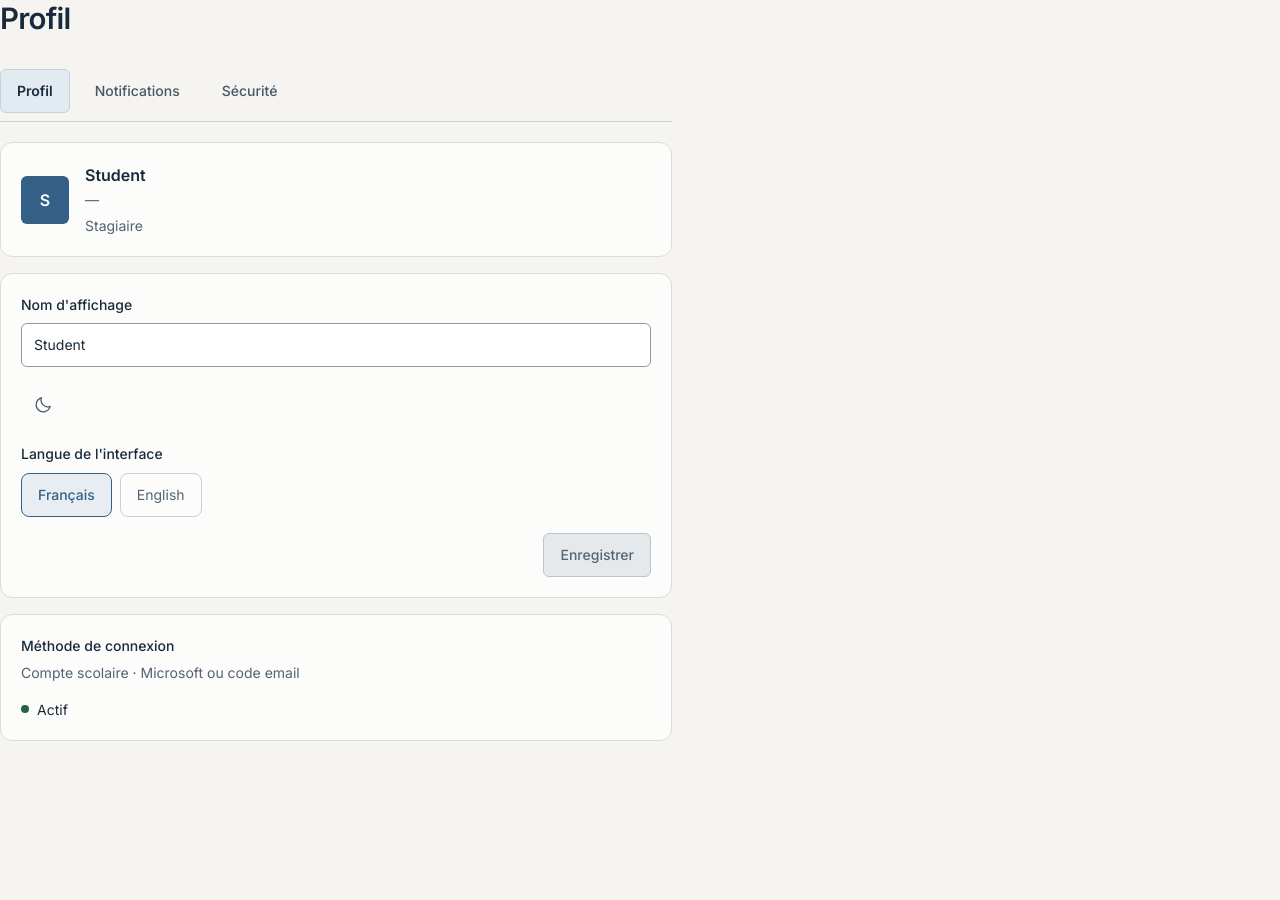
Admin and profile journeys › renders notification payload statuses in French rather than raw accepted/done
Step 1. Click the tab "Notifications" → (137, 91), box [78, 69, 197, 113]
(page scrolled)
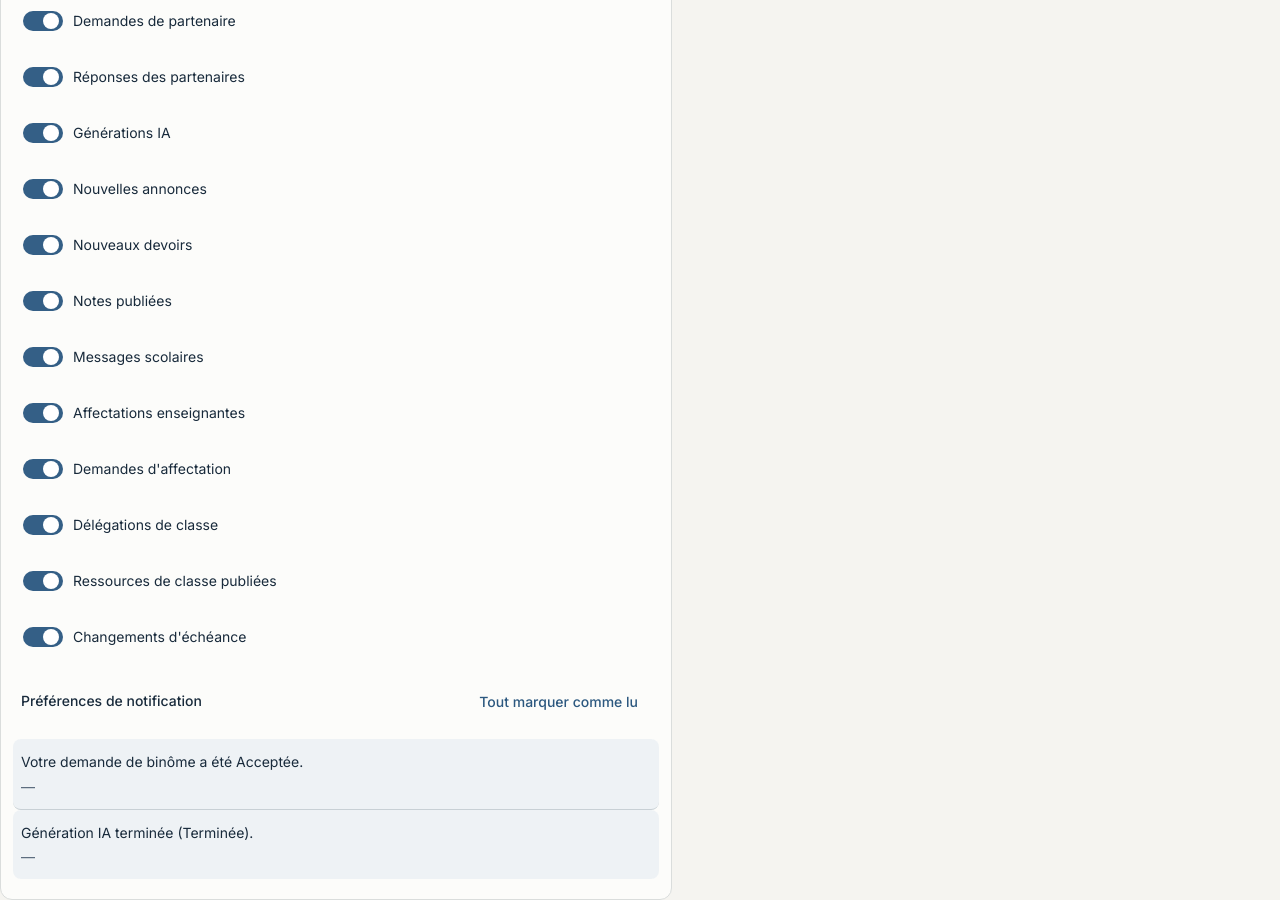
Result: the text "Votre demande de binôme a été Acceptée." is shown at [21, 753, 303, 770]
Result: the text "Génération IA terminée (Terminée)." is shown at [21, 824, 253, 841]
